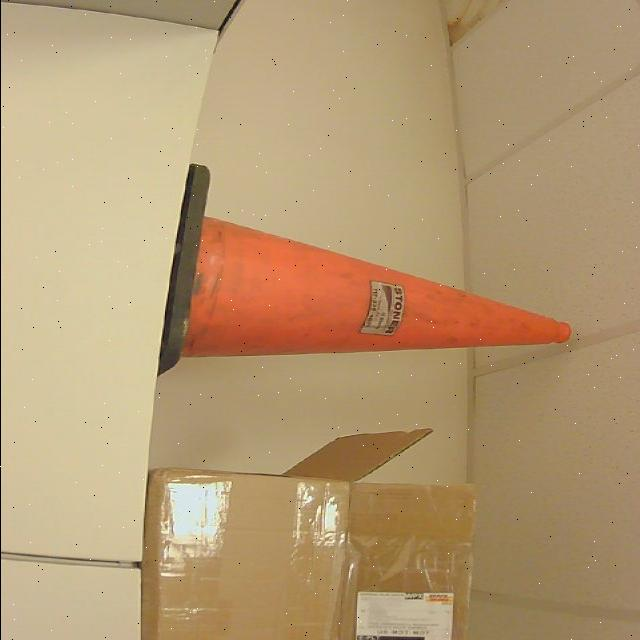traffic cone: (158, 165, 572, 374)
